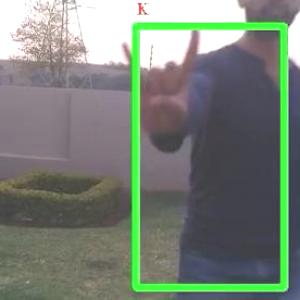takeoff-hand: (115, 23, 207, 129)
